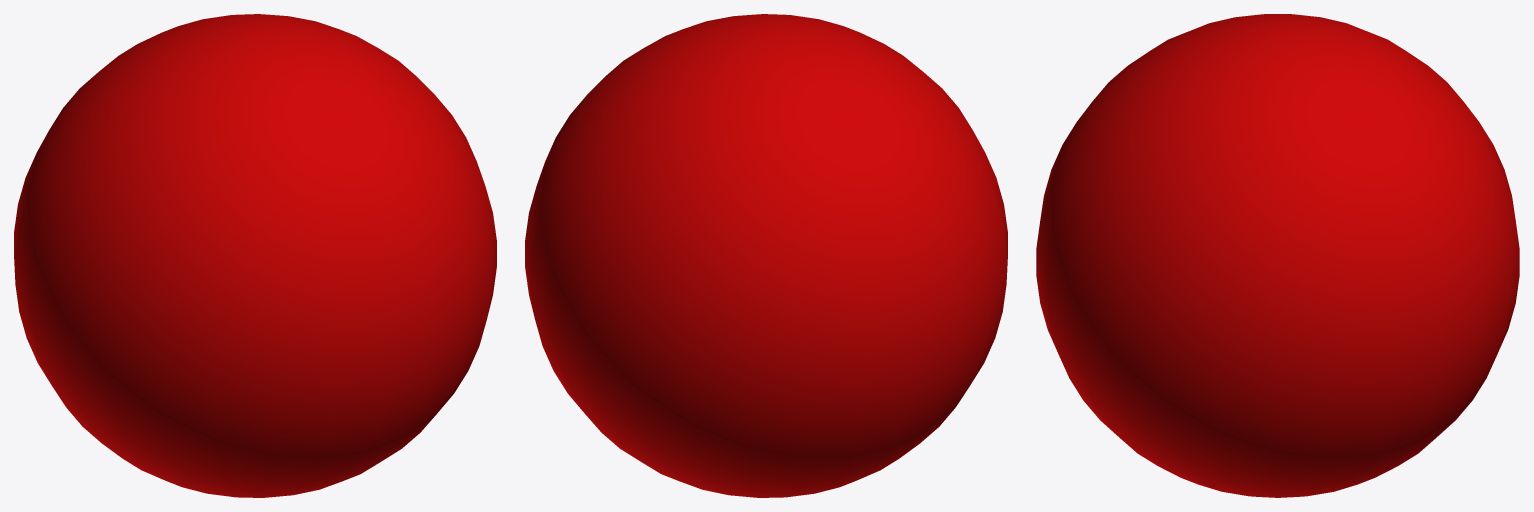
Rendered from Gizmo.obj.
3 views of the same model, side by side, from view 1: azimuth 30°, elevation 25°; view 2: azimuth 150°, elevation 25°; view 3: azimuth 270°, elevation 25° (orthographic).
Visible parts, largest first — view 1: pSphere1; view 2: pSphere1; view 3: pSphere1.
Part boxes in pixels (x1,y1,x2,y2): pSphere1: [14, 14, 496, 497]; pSphere1: [525, 14, 1007, 497]; pSphere1: [1036, 14, 1519, 497].
Size of the model in its own units: 1.99 by 2 by 1.99.
